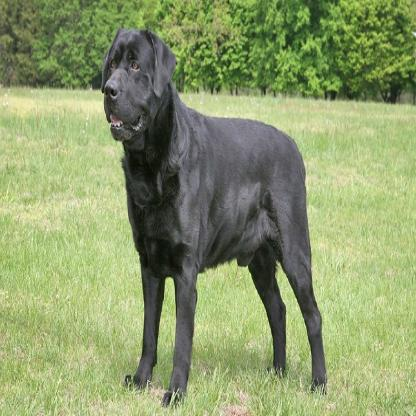Labarador Retriever: (100, 25, 331, 402)
